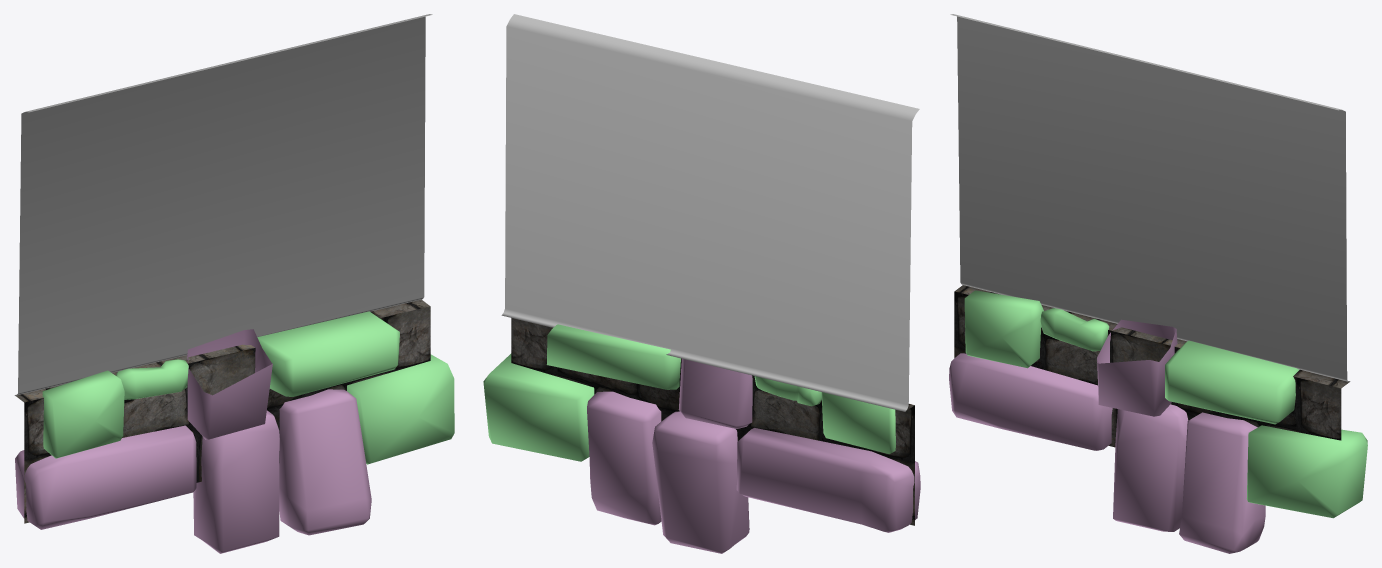
The model's file is BlockingWall.FBX.
3 renders of one model, left to right at view 1: azimuth 30°, elevation 25°; view 2: azimuth 150°, elevation 25°; view 3: azimuth 330°, elevation 25°, orthographic. The views are drawn at different scales.
Visible parts, largest first — view 1: Object017, Object014; view 2: Object017, Object014; view 3: Object017, Object014.
Part boxes in pixels (box(x1,y1,x2,y2)): Object017: box(14, 14, 432, 523); Object014: box(15, 311, 454, 553); Object017: box(501, 14, 919, 525); Object014: box(483, 324, 920, 553); Object017: box(950, 14, 1350, 447); Object014: box(949, 290, 1367, 553).
Bounding box in the file's own units: 383 × 421 × 69.98.
